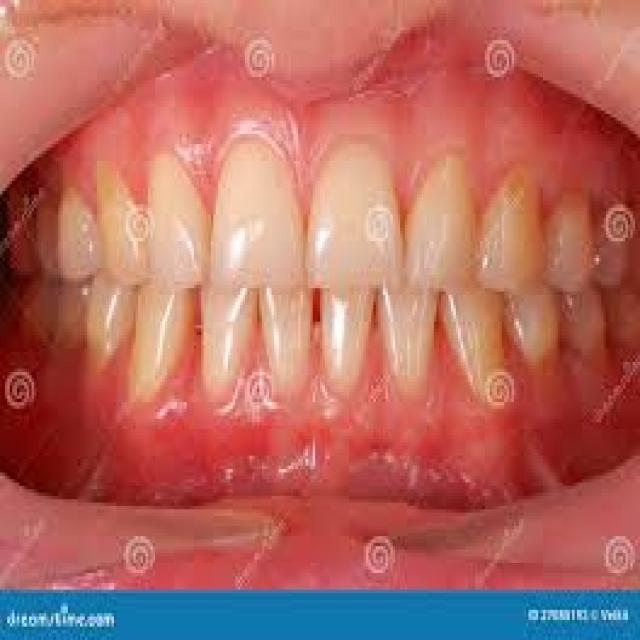tooth: (213, 134, 303, 288), (313, 138, 405, 288), (473, 164, 550, 302), (414, 140, 478, 302), (146, 147, 208, 285), (203, 285, 260, 419), (92, 161, 146, 288), (446, 292, 507, 402), (259, 288, 313, 406), (136, 282, 187, 406), (381, 288, 436, 402), (320, 282, 371, 396), (548, 191, 599, 302), (56, 188, 102, 284), (507, 295, 558, 375), (85, 278, 136, 355), (562, 295, 614, 355)
